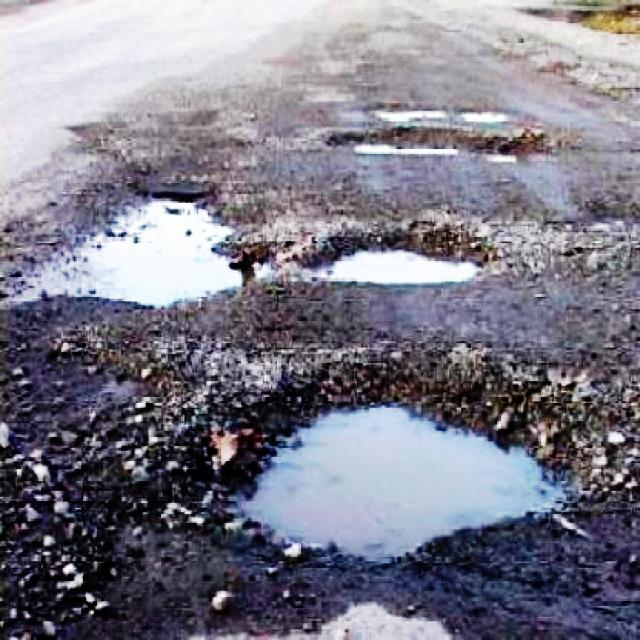pothole: (158, 343, 600, 566), (25, 190, 286, 316), (286, 224, 503, 290), (318, 122, 557, 163)
